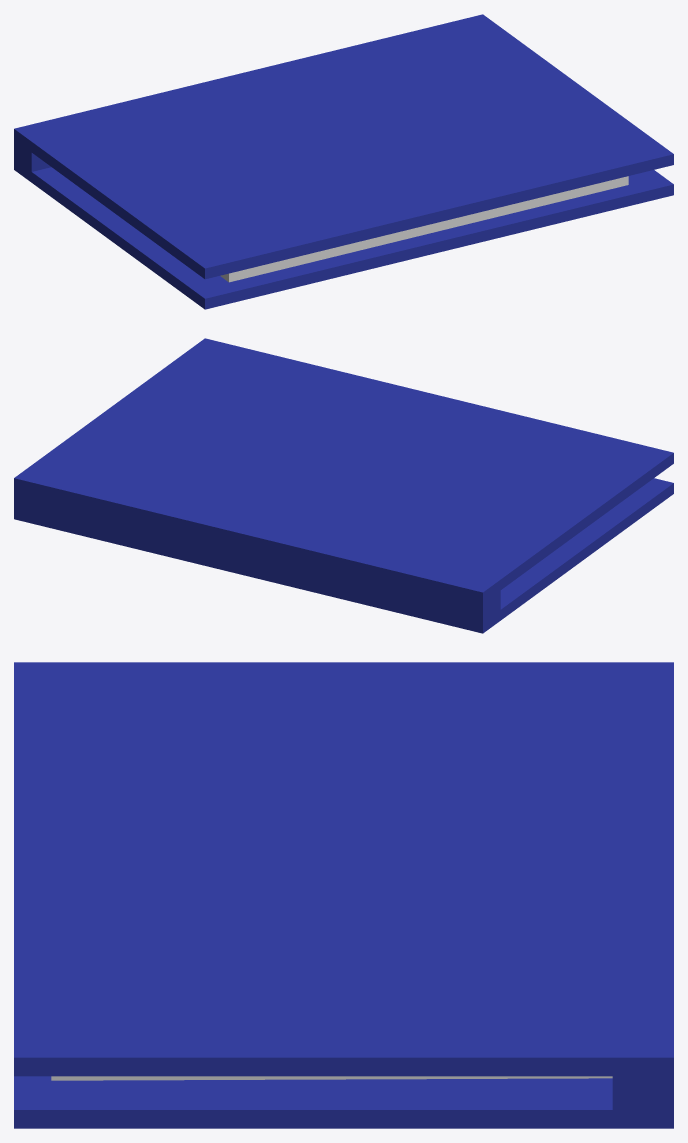
The model's file is Diary.fbx.
3 renders of one model, top to bottom at view 1: azimuth 30°, elevation 25°; view 2: azimuth 150°, elevation 25°; view 3: azimuth 270°, elevation 25°, orthographic. The views are drawn at different scales.
Visible parts, largest first — view 1: Diary; view 2: Diary; view 3: Diary.
Boxes of the visible parts, left/top/right/bottom form: Diary: left=14, top=14, right=673, bottom=309; Diary: left=14, top=338, right=673, bottom=633; Diary: left=14, top=662, right=673, bottom=1128.
Size of the model in its own units: 352 by 29.46 by 248.
